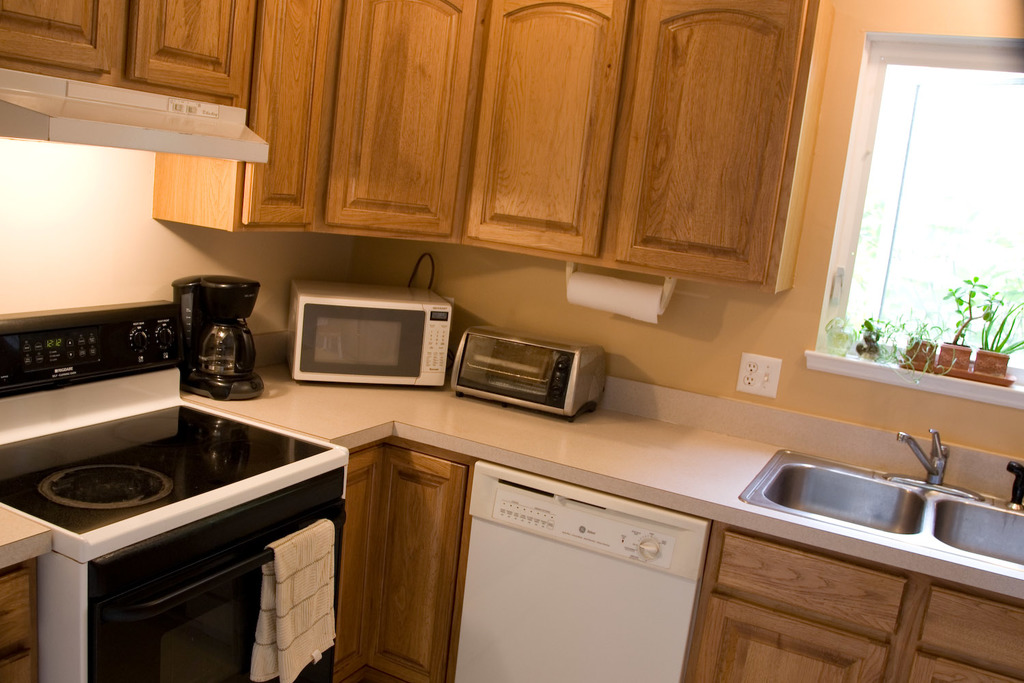cabinet door: (642, 0, 790, 237), (489, 7, 606, 251), (362, 7, 459, 236), (385, 456, 451, 683), (715, 606, 874, 683), (273, 10, 322, 225), (150, 7, 241, 94), (2, 10, 107, 75)
